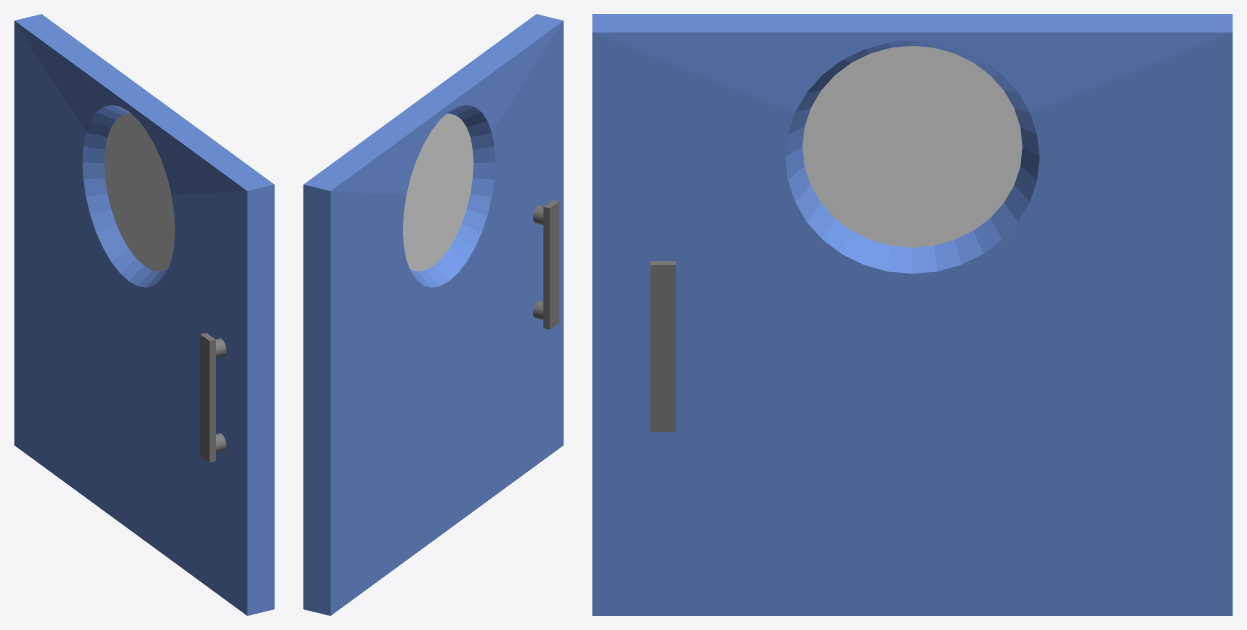
Rendered from door.fbx.
3 views of the same model, side by side, from view 1: azimuth 30°, elevation 25°; view 2: azimuth 150°, elevation 25°; view 3: azimuth 270°, elevation 25° (orthographic). The views are drawn at different scales.
Parts seen in each view (by area): view 1: Cylinder; view 2: Cylinder; view 3: Cylinder.
Part boxes in pixels (<box>): Cylinder: <box>14,14,274,615</box>; Cylinder: <box>303,14,563,615</box>; Cylinder: <box>592,14,1232,615</box>.
Size of the model in its own units: 120 by 804 by 800.
